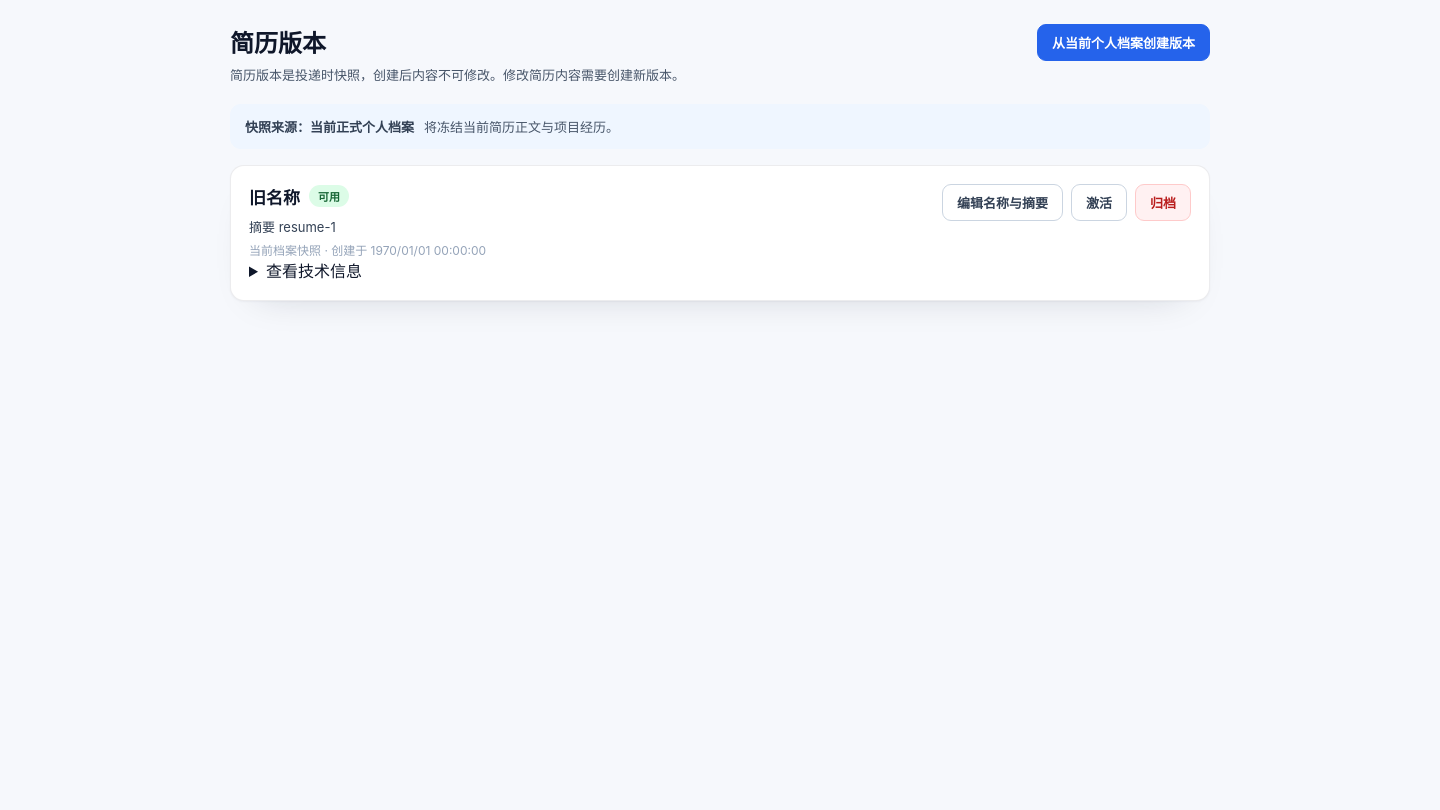
Test: ResumeVersionsPage › VERSION_CONFLICT 保留编辑草稿，并由用户触发重新加载
Click the button "编辑名称与摘要" at (1002, 202), box [942,184,1063,221]
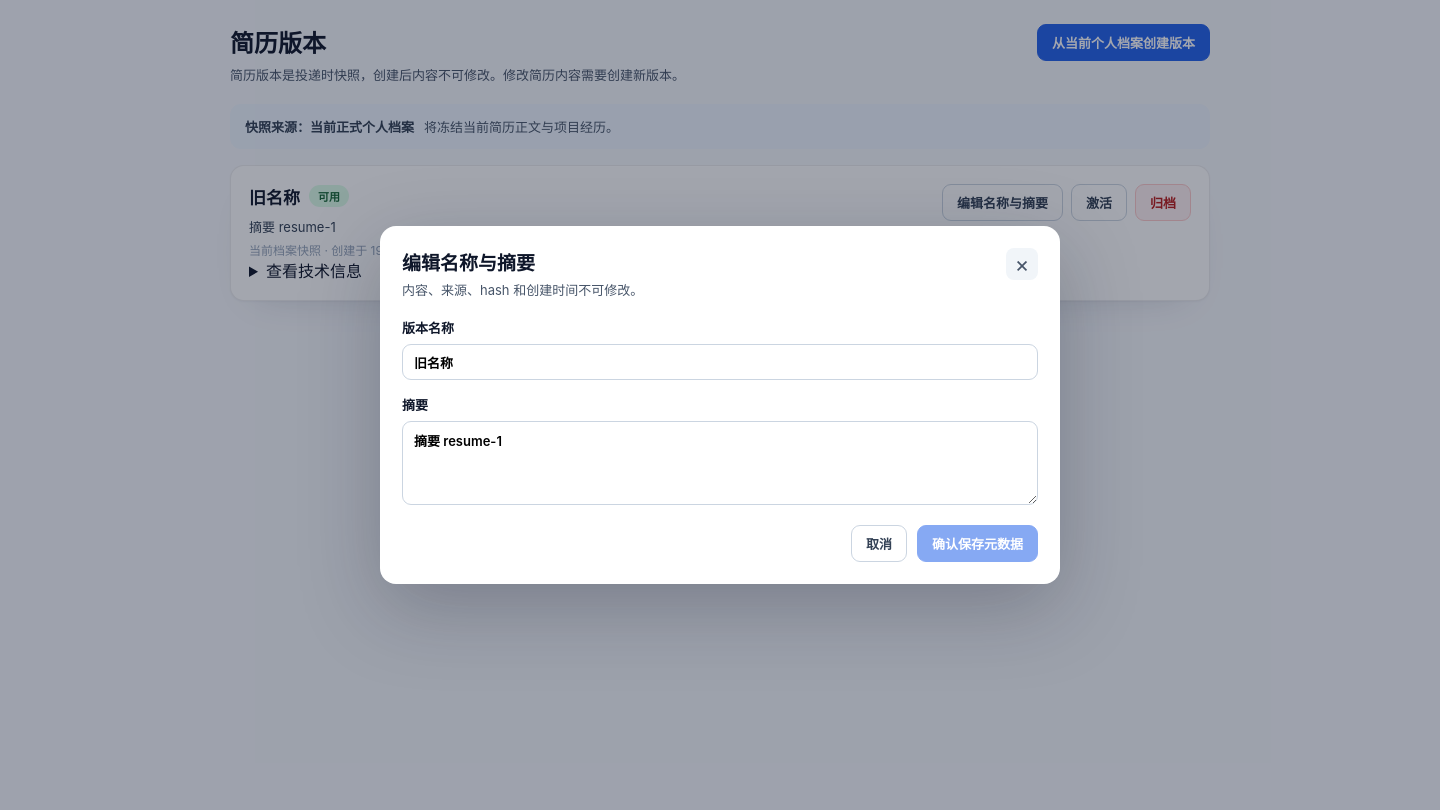
Replace the text in the field labelled "版本名称" with "我的草稿名称" at (720, 362), box [402,344,1038,380]
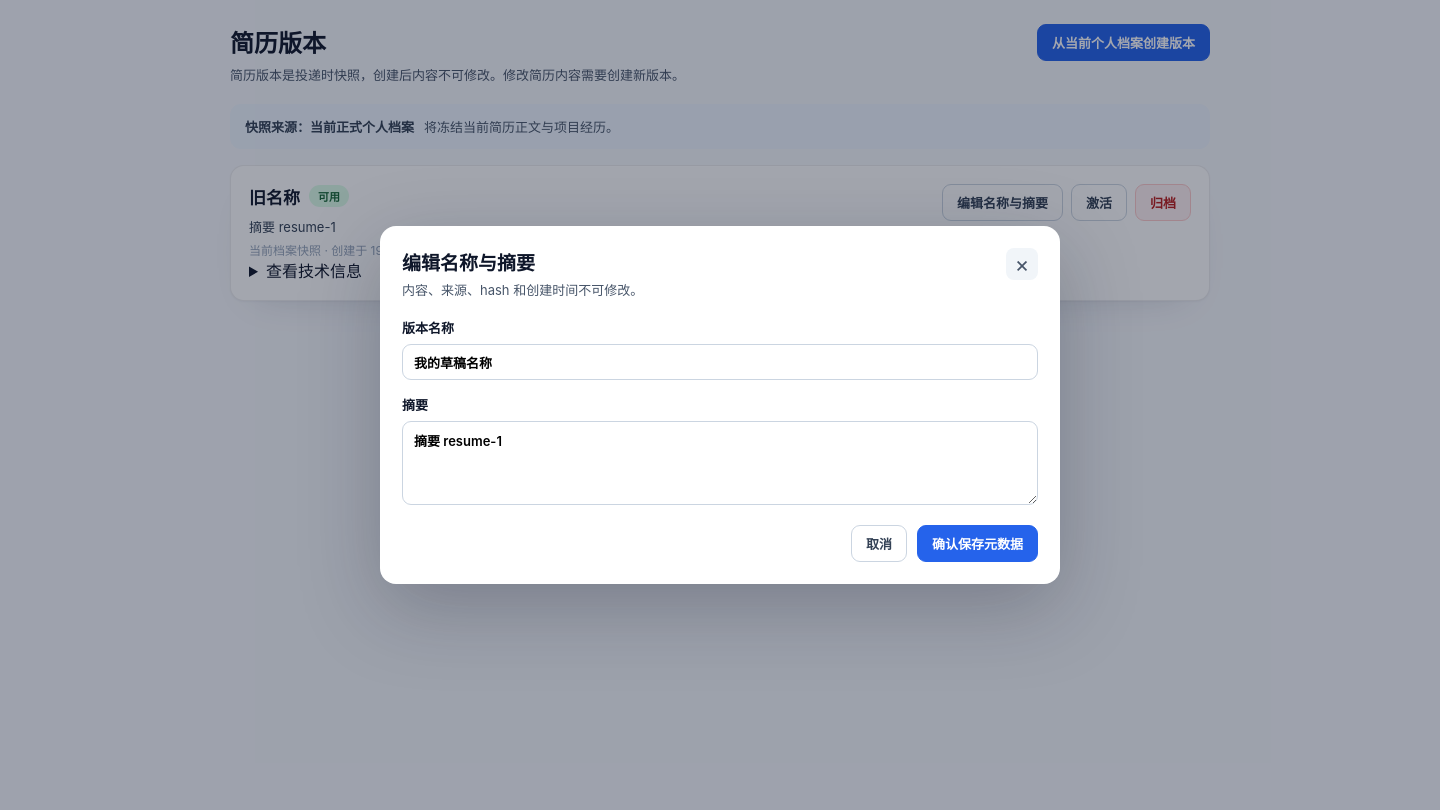
Click the button "确认保存元数据" at (978, 544), box [917,525,1038,562]
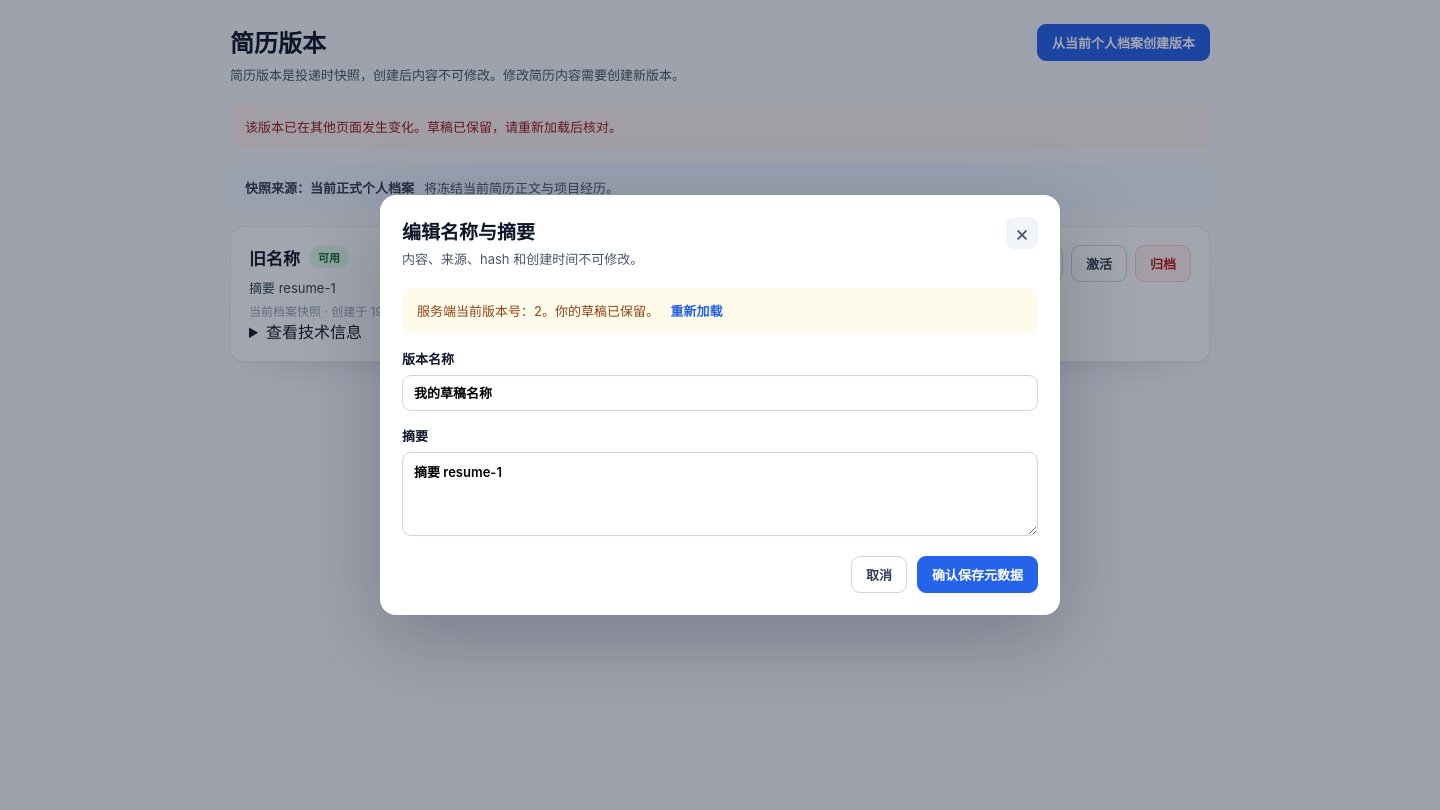
Result: the text "草稿已保留" is shown at [245,119,622,135]
Click the button "重新加载" at (693, 310), box [663,301,723,320]
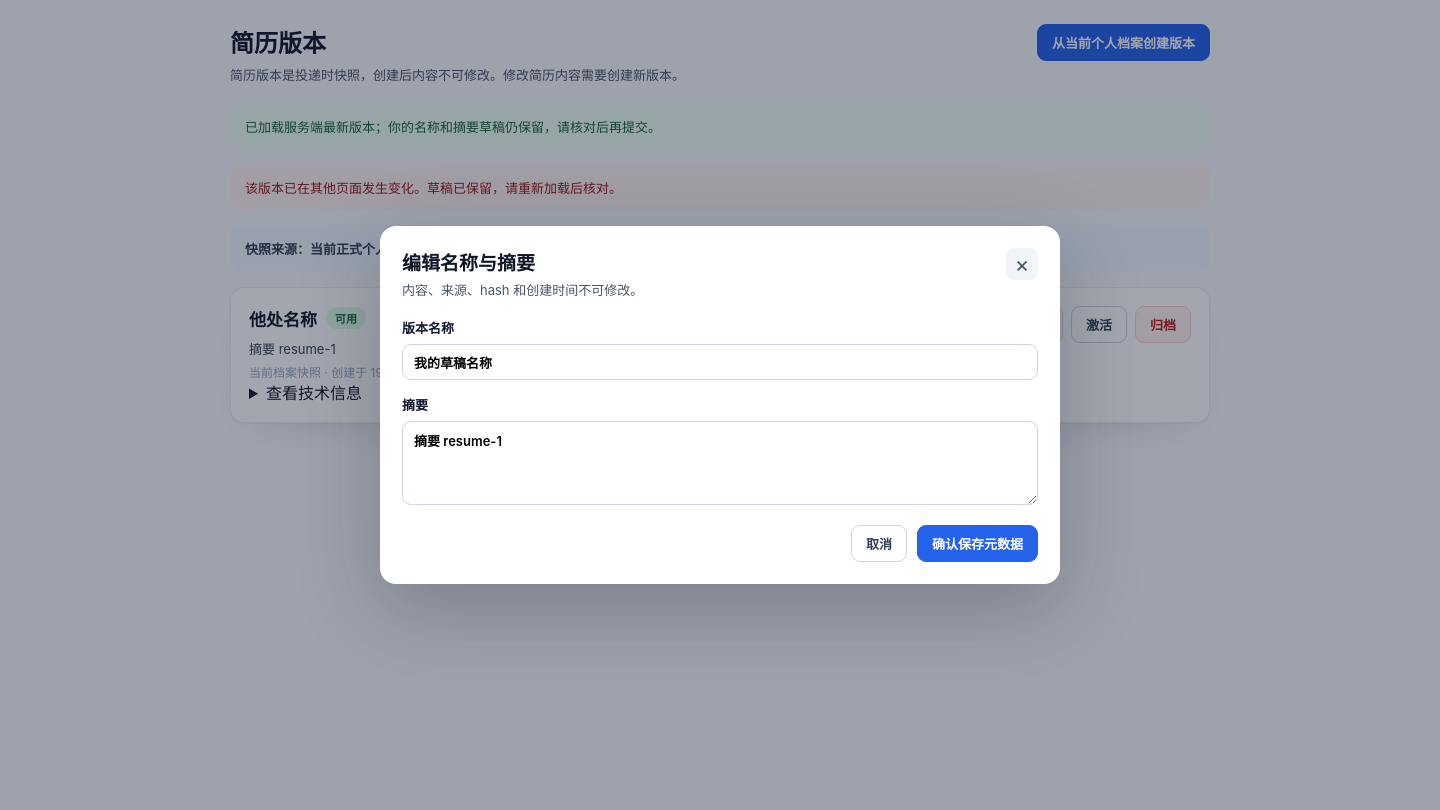
Result: the text "草稿仍保留" is shown at [245,119,661,135]
